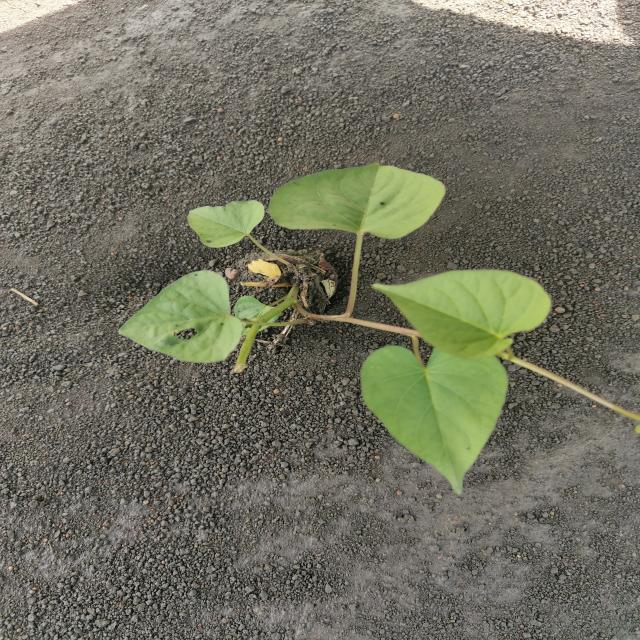MorningGlory: (116, 160, 556, 496)
